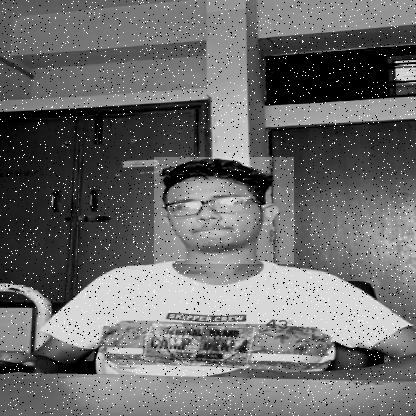Normal: (154, 157, 294, 264)
